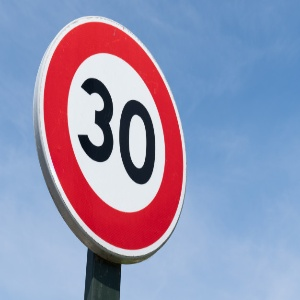30 speed: (37, 16, 186, 264)
